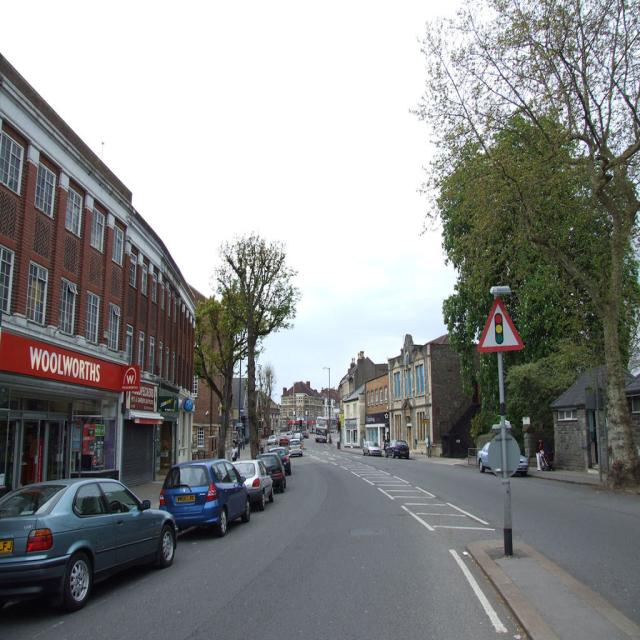car: (6, 473, 177, 615), (363, 438, 382, 455)
